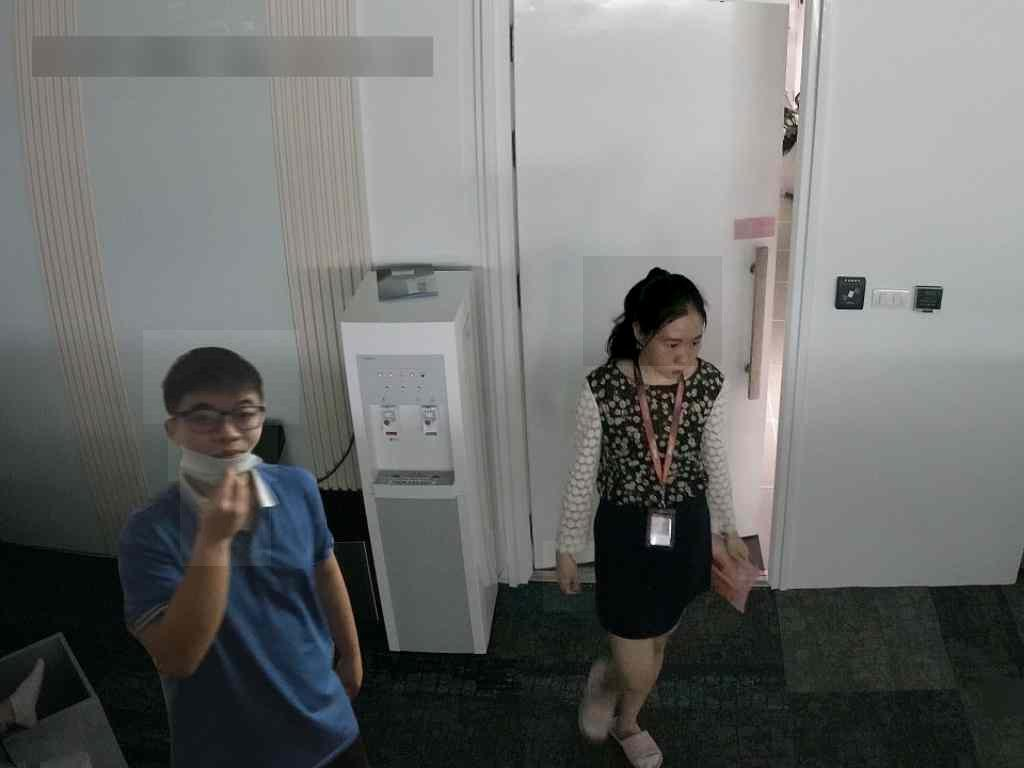no_apron: (181, 461, 272, 566), (544, 541, 596, 611)
no_gloves: (584, 256, 722, 366), (143, 330, 299, 424)
no_hairnet: (168, 385, 278, 481), (635, 297, 708, 381)
